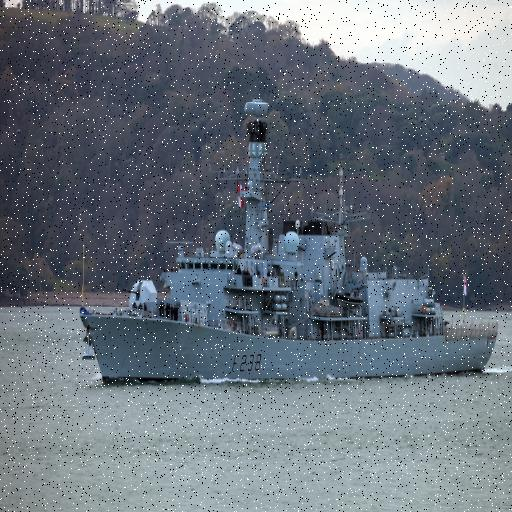Fragata: (80, 96, 501, 392)
